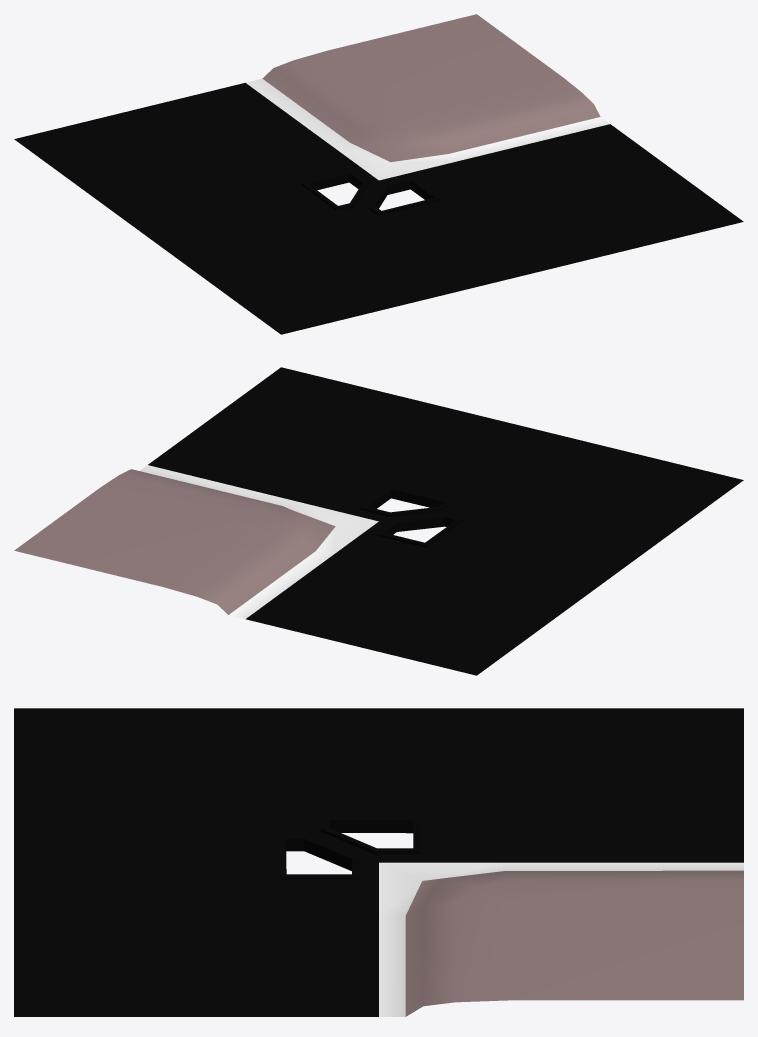
File: sidewalk corn out lod1.FBX
3 views of the same model, one above another, from view 1: azimuth 30°, elevation 25°; view 2: azimuth 150°, elevation 25°; view 3: azimuth 270°, elevation 25° (orthographic). The views are drawn at different scales.
Parts seen in each view (by area): view 1: Object052; view 2: Object052; view 3: Object052.
Boxes of the visible parts, bbox=[...] form: Object052: bbox=[14, 14, 743, 334]; Object052: bbox=[14, 367, 743, 675]; Object052: bbox=[14, 708, 743, 1016].
Bounding box in the file's own units: 3 × 0.1181 × 3.
